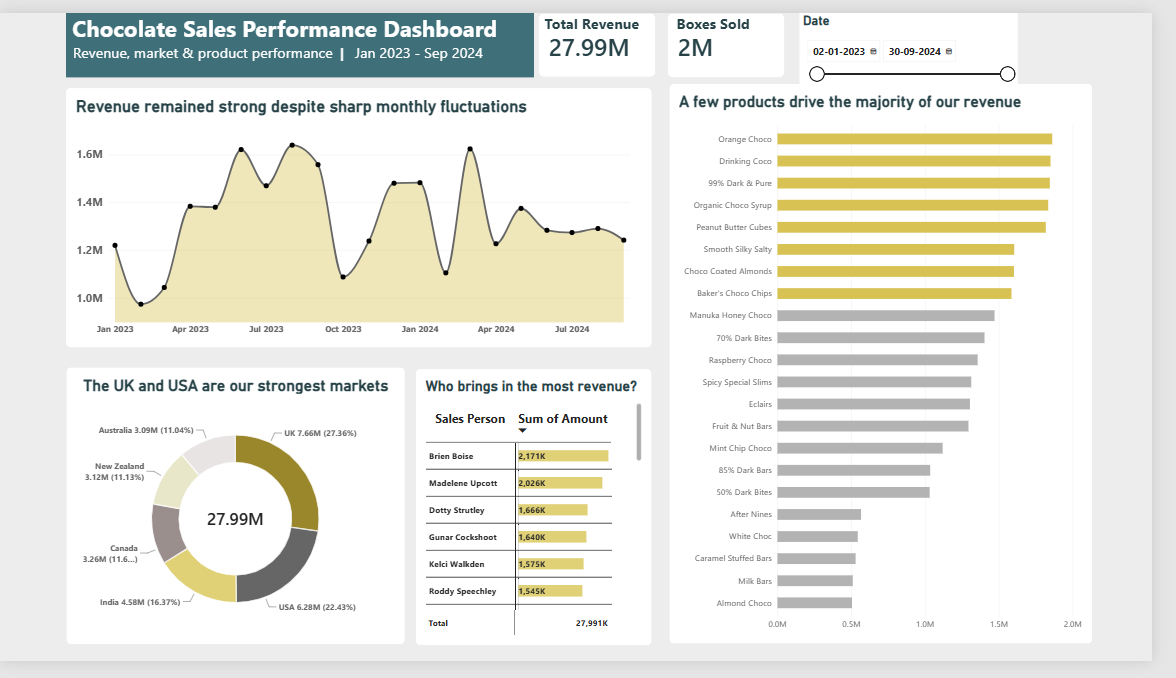

What the dashboard file says about the page in this screenshot:
{"tool":"powerbi","page":{"name":"Sales Overview","canvas":[1920,1080],"ordinal":0},"visuals":[{"type":"lineChart","title":"Revenue remained strong despite sharp monthly fluctuations","fields":{"Category":["data.Date.Variation.Date Hierarchy.Year","data.Date.Variation.Date Hierarchy.Quarter","data.Date.Variation.Date Hierarchy.Month","data.Date.Variation.Date Hierarchy.Day"],"Y":["Sum(data.Amount)"]},"box":[110,126,976,432],"z":0},{"type":"donutChart","title":"The UK and USA are our strongest markets","fields":{"Category":["data.Country"],"Y":["Sum(data.Amount)"]},"box":[110,590,565,462.5],"z":1000},{"type":"pivotTable","title":"Who brings in the most revenue?","fields":{"Rows":["data.Sales Person"],"Values":["Sum(data.Amount)"]},"box":[692,592,394,462],"z":2000},{"type":"clusteredBarChart","title":"A few products drive the majority of our revenue","fields":{"Category":["data.Product"],"Y":["Sum(data.Amount)"]},"box":[1114,118,706,934],"z":3000},{"type":"slicer","title":"Date","fields":{"Values":["data.Date"]},"box":[1331.7,0,363.3,118.3],"z":4000},{"type":"textbox","box":[1759,108,161,943],"z":5000},{"type":"textbox","box":[110,0,780,107.5],"z":6000},{"type":"cardVisual","title":"Total Revenue","fields":{"Data":["Sum(data.Amount)"]},"box":[896.7,0,195,107.5],"z":7000},{"type":"textbox","box":[908.3,0,183.3,38.3],"z":8000},{"type":"cardVisual","fields":{"Data":["Sum(data.Boxes)"]},"box":[1113.3,0,195,108.3],"z":9000},{"type":"textbox","box":[1126.7,0,170,38.3],"z":10000}]}

Visuals, with their boxes in screenshot pixels (x1, y1, x2, y2), scaled from the page's 1920x1080 canvas onto the 1176x678 screenshot:
"Revenue remained strong despite sharp monthly fluctuations" lineChart: [x1=67, y1=79, x2=665, y2=350]
"The UK and USA are our strongest markets" donutChart: [x1=67, y1=370, x2=413, y2=661]
"Who brings in the most revenue?" pivotTable: [x1=424, y1=372, x2=665, y2=662]
"A few products drive the majority of our revenue" clusteredBarChart: [x1=682, y1=74, x2=1115, y2=660]
"Date" slicer: [x1=816, y1=0, x2=1038, y2=74]
textbox: [x1=1077, y1=68, x2=1175, y2=660]
textbox: [x1=67, y1=0, x2=545, y2=67]
"Total Revenue" cardVisual: [x1=549, y1=0, x2=669, y2=67]
textbox: [x1=556, y1=0, x2=669, y2=24]
cardVisual - Sum(data.Boxes): [x1=682, y1=0, x2=801, y2=68]
textbox: [x1=690, y1=0, x2=794, y2=24]
